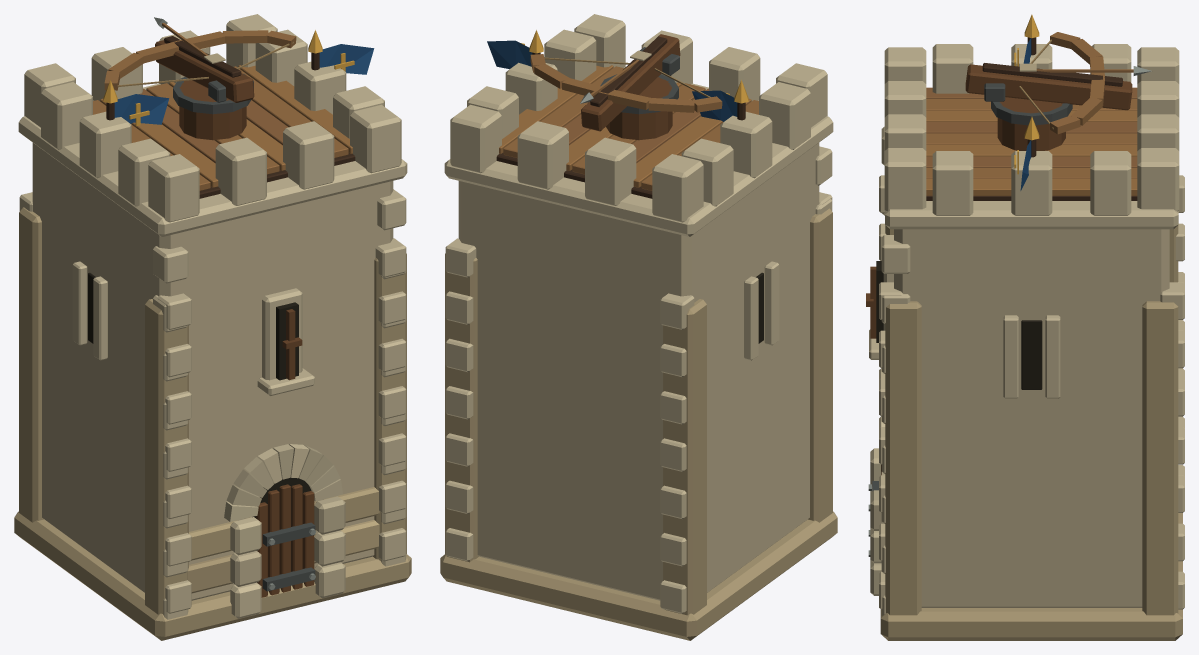
File: defense_tower.glb
The picture shows the model from 3 angles, left to right: view 1: azimuth 30°, elevation 25°; view 2: azimuth 150°, elevation 25°; view 3: azimuth 270°, elevation 25°; orthographic projection. The views are drawn at different scales.
Parts seen in each view (by area): view 1: Stone, Timber, Metal, Fabric; view 2: Stone, Timber, Fabric, Metal; view 3: Stone, Timber, Metal, Fabric.
Part boxes in pixels (box(x1,y1,x2,y2)): Stone: box(14, 14, 411, 640); Timber: box(93, 23, 355, 597); Metal: box(103, 17, 354, 591); Fabric: box(113, 42, 374, 124); Stone: box(440, 14, 837, 640); Timber: box(496, 34, 758, 198); Fabric: box(487, 40, 737, 121); Metal: box(521, 30, 748, 114); Stone: box(869, 44, 1184, 640); Timber: box(866, 32, 1137, 475); Metal: box(868, 14, 1151, 556); Fabric: box(1019, 38, 1053, 190).
Bounding box in the file's own units: 3.53 × 5.98 × 3.36.
